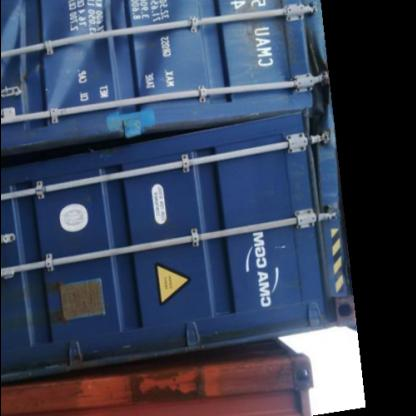Damage: (1, 1, 170, 172), (293, 31, 333, 159), (28, 275, 70, 336)
